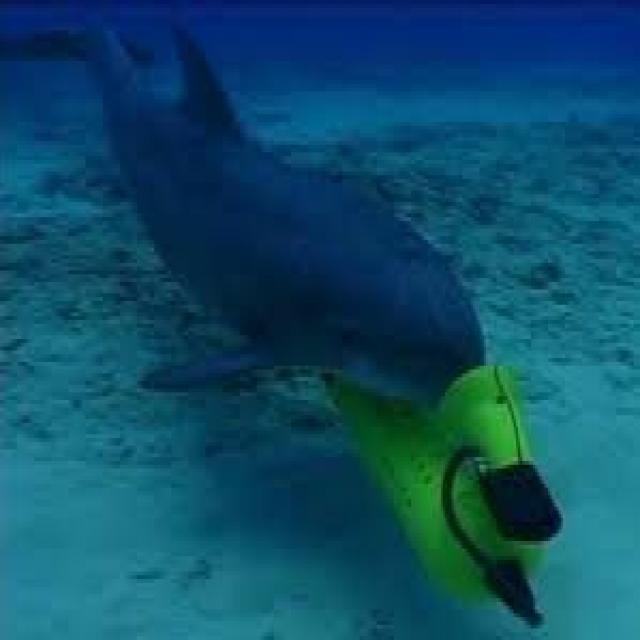dolphin: (94, 27, 467, 510)
